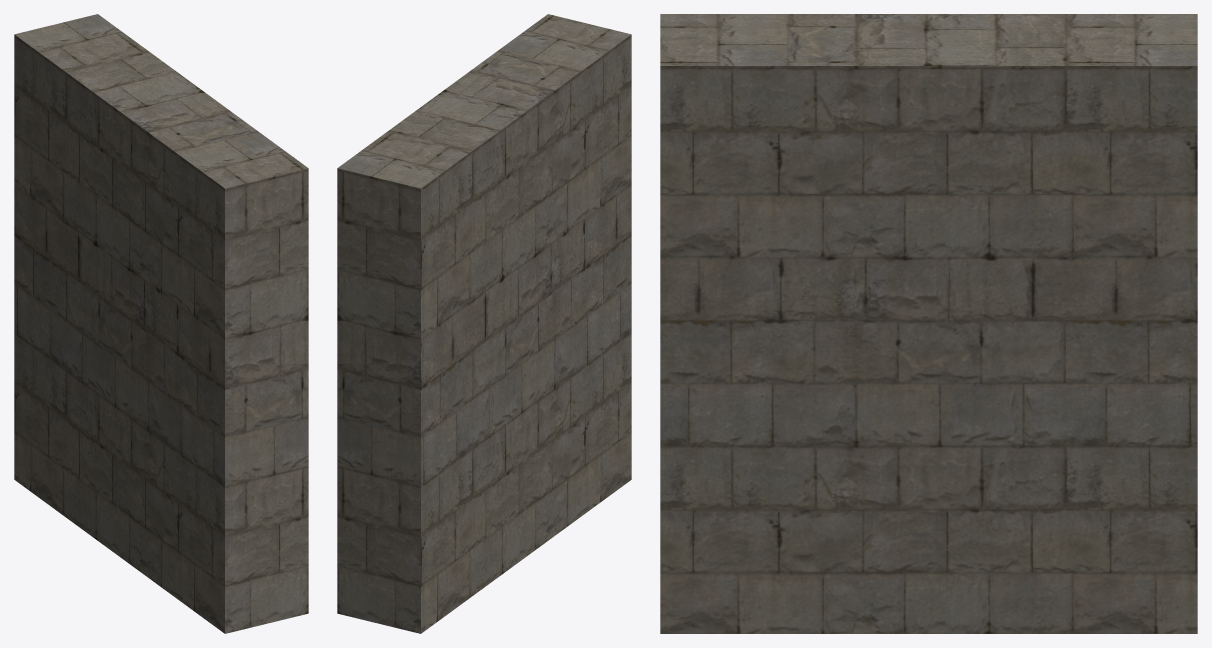
Rendered from murekamienny01.fbx.
3 renders of one model, left to right at view 1: azimuth 30°, elevation 25°; view 2: azimuth 150°, elevation 25°; view 3: azimuth 270°, elevation 25°, orthographic. The views are drawn at different scales.
Parts seen in each view (by area): view 1: Box001; view 2: Box001; view 3: Box001.
Boxes of the visible parts, box(x1,y1,x2,y2) form: Box001: box(14, 14, 308, 633); Box001: box(337, 14, 631, 633); Box001: box(660, 14, 1197, 633).
Bounding box in the file's own units: 12.23 × 62.31 × 53.44.
